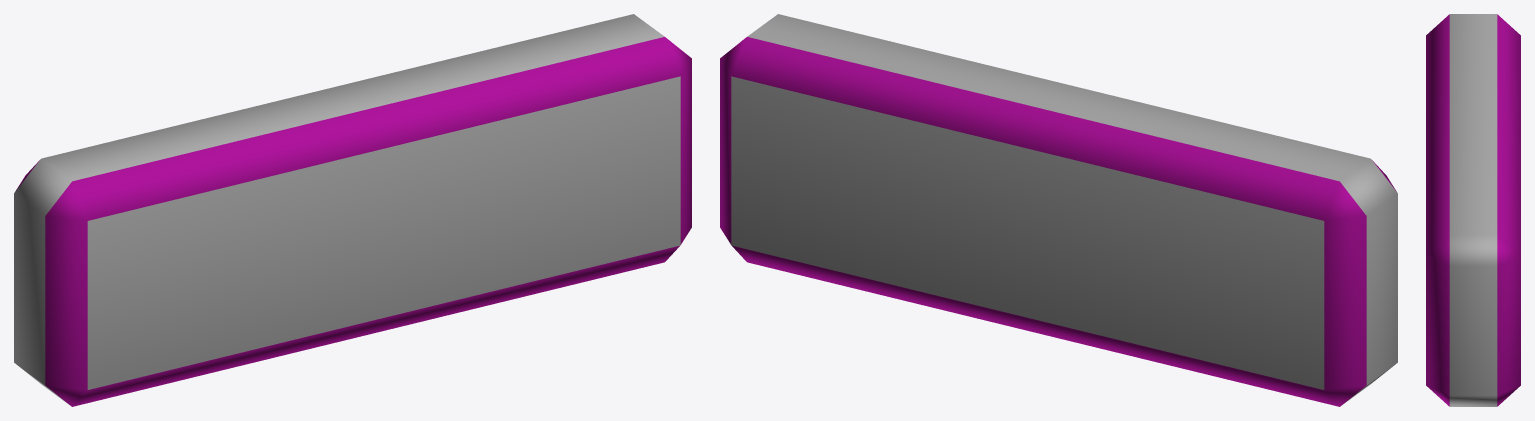
File: block_middle.fbx
The picture shows the model from 3 angles, left to right: view 1: azimuth 30°, elevation 25°; view 2: azimuth 150°, elevation 25°; view 3: azimuth 270°, elevation 25°; orthographic projection. The views are drawn at different scales.
Visible parts, largest first — view 1: polySurface22; view 2: polySurface22; view 3: polySurface22.
Boxes of the visible parts, box(x1,y1,x2,y2) form: polySurface22: box(14, 14, 691, 406); polySurface22: box(720, 14, 1397, 406); polySurface22: box(1426, 14, 1520, 406).
Size of the model in its own units: 3 by 1 by 0.5.
